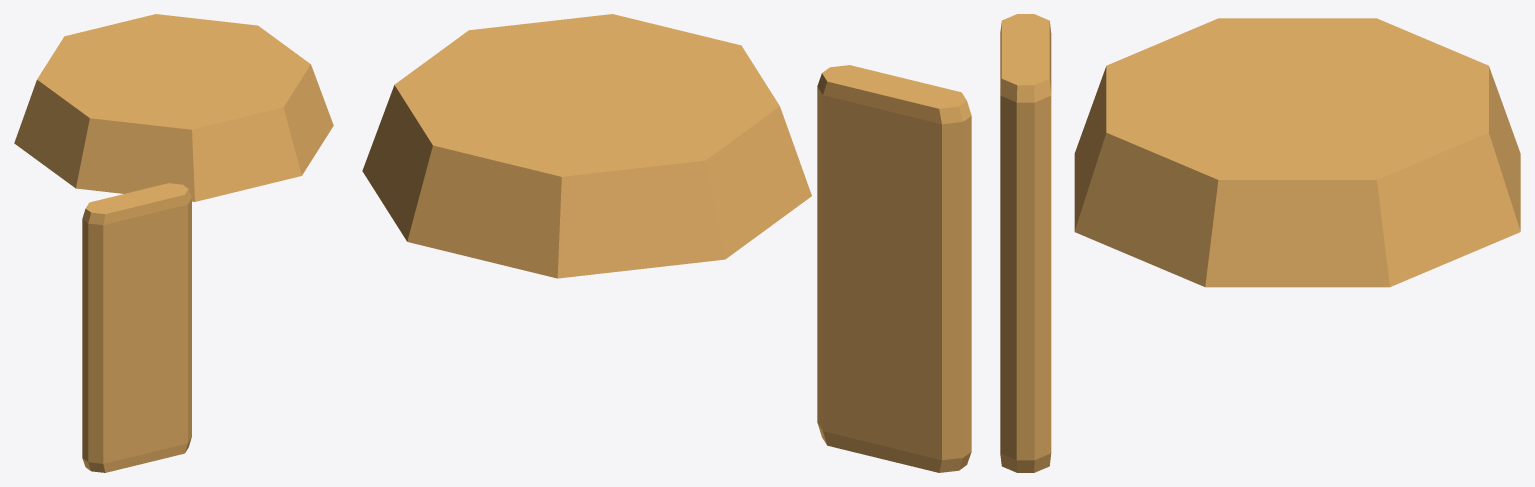
File: SM_NPC_ACCESSORY_000_Scarf.glb
3 views of the same model, side by side, from view 1: azimuth 30°, elevation 25°; view 2: azimuth 150°, elevation 25°; view 3: azimuth 270°, elevation 25° (orthographic). The views are drawn at different scales.
Parts seen in each view (by area): view 1: SM_NPC_ACCESSORY_000_Scarf; view 2: SM_NPC_ACCESSORY_000_Scarf; view 3: SM_NPC_ACCESSORY_000_Scarf.
Part boxes in pixels (x1=…): SM_NPC_ACCESSORY_000_Scarf: x1=14, y1=14, x2=333, y2=472; SM_NPC_ACCESSORY_000_Scarf: x1=362, y1=14, x2=971, y2=472; SM_NPC_ACCESSORY_000_Scarf: x1=1000, y1=14, x2=1520, y2=472.
Size of the model in its own units: 0.3867 by 0.345 by 0.3772.
